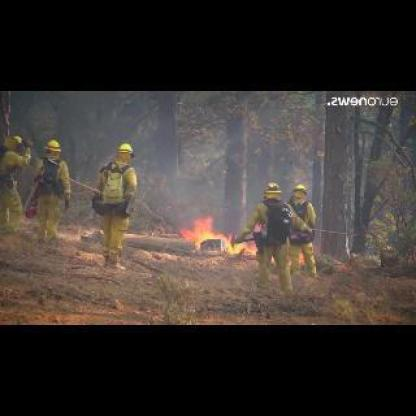fire: (173, 212, 255, 257)
